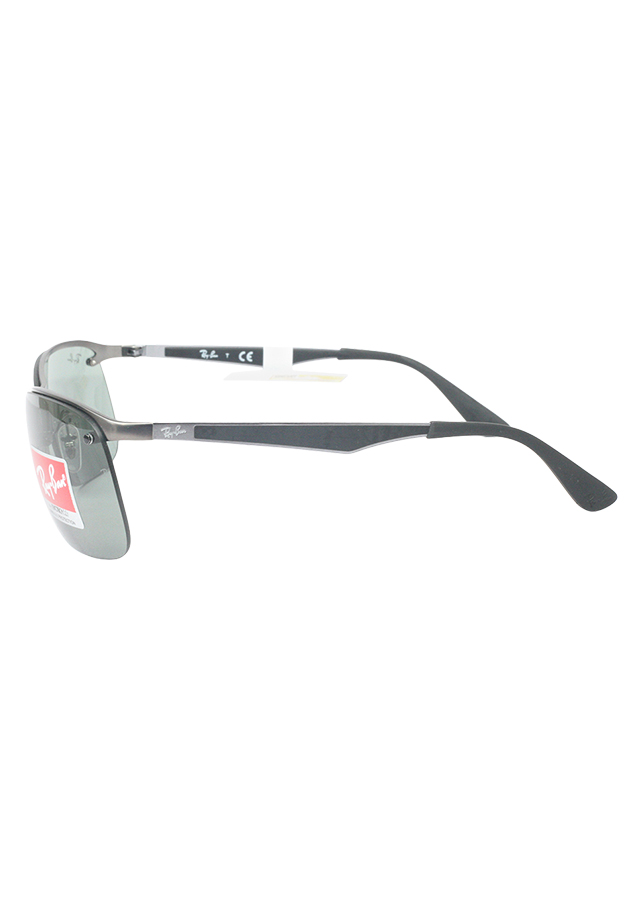Rayban: (28, 450, 81, 519), (191, 341, 224, 369), (147, 422, 197, 439)
